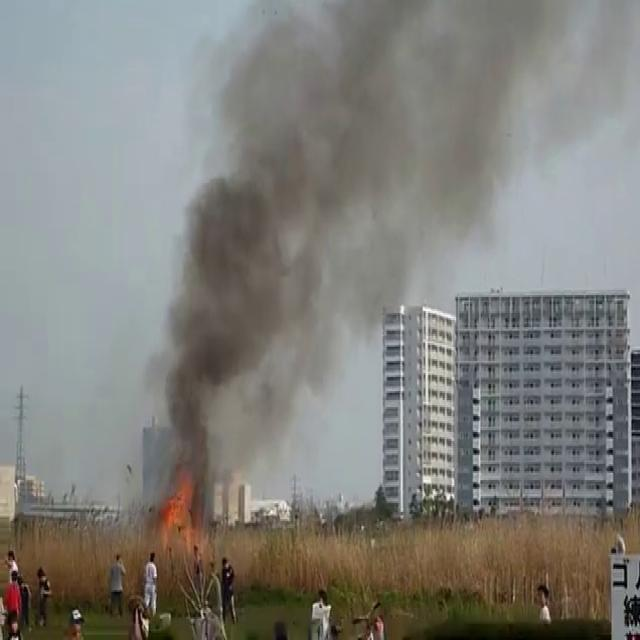Fire: (157, 471, 207, 548)
Smoke: (148, 0, 536, 507)
